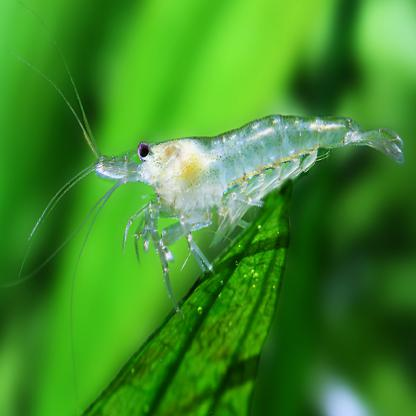shrimp: (90, 112, 408, 294)
